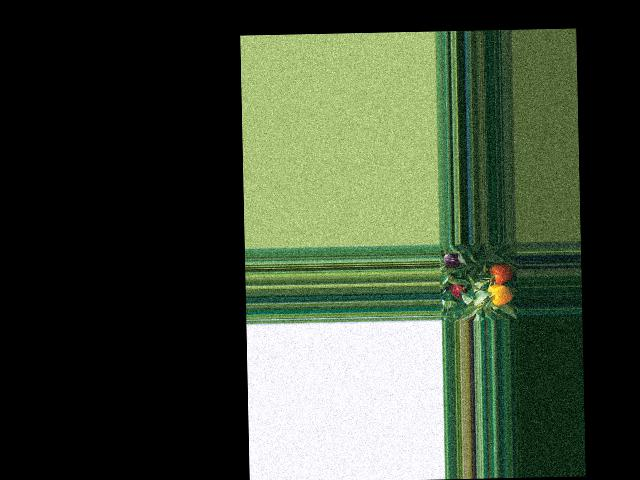bell_pepper: (486, 278, 512, 305)
